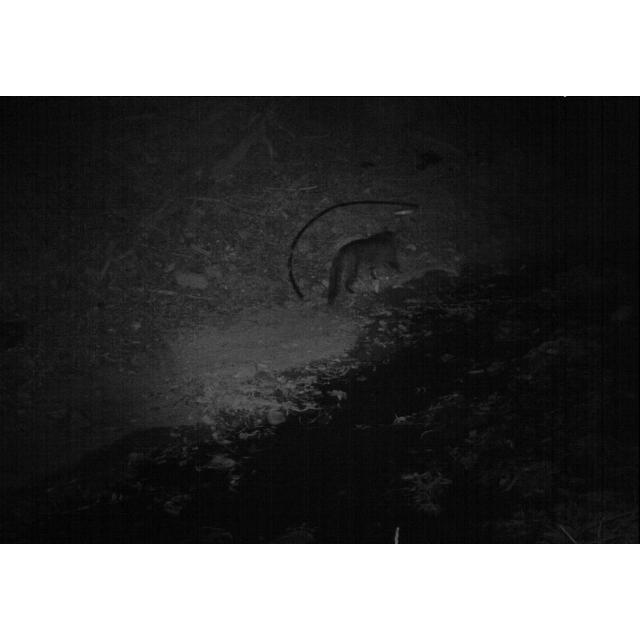animals: (327, 228, 408, 308)
